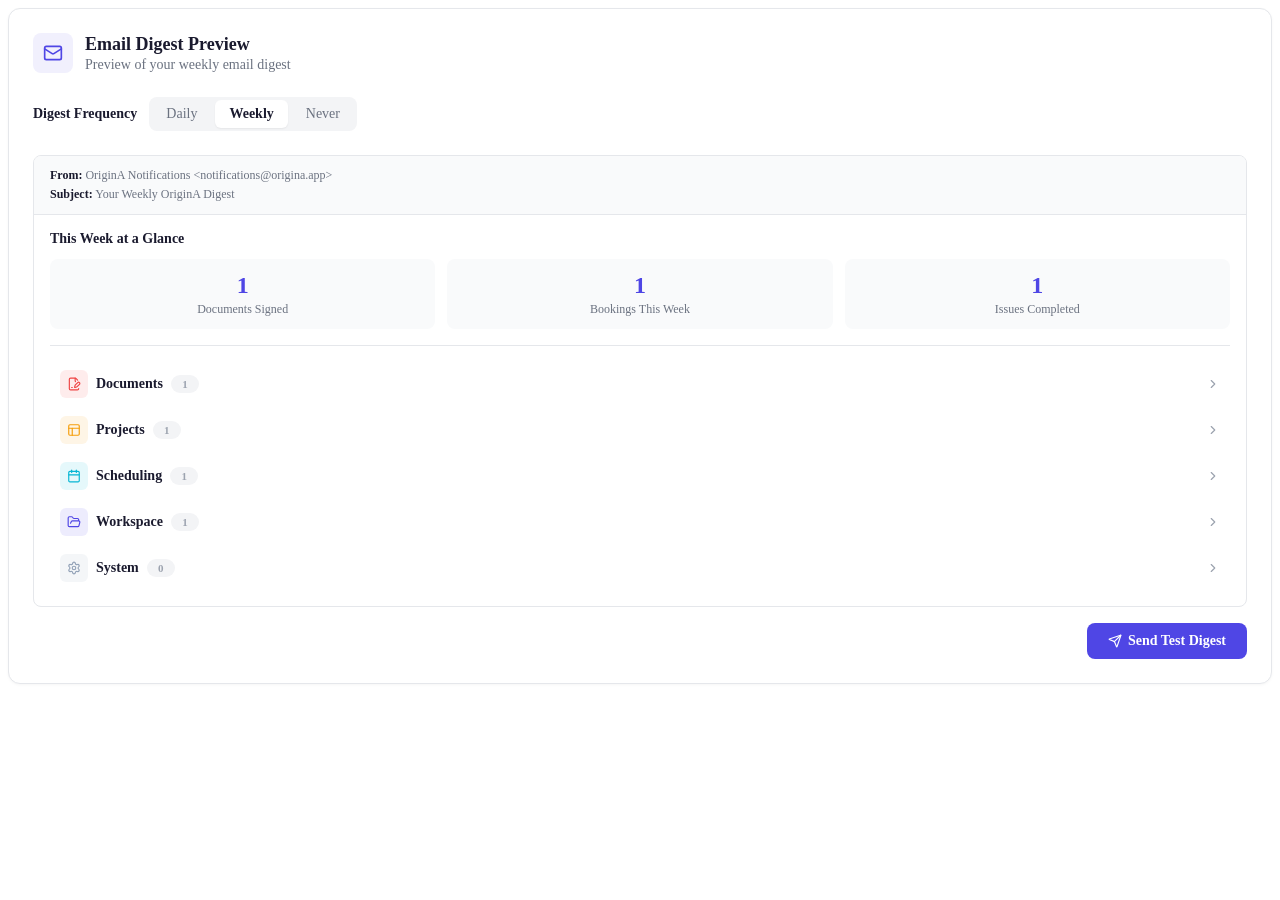
Test: DigestPreview › toggles category expansion on click
Click the button "Documents 1": (129, 383) [50,362,1230,406]
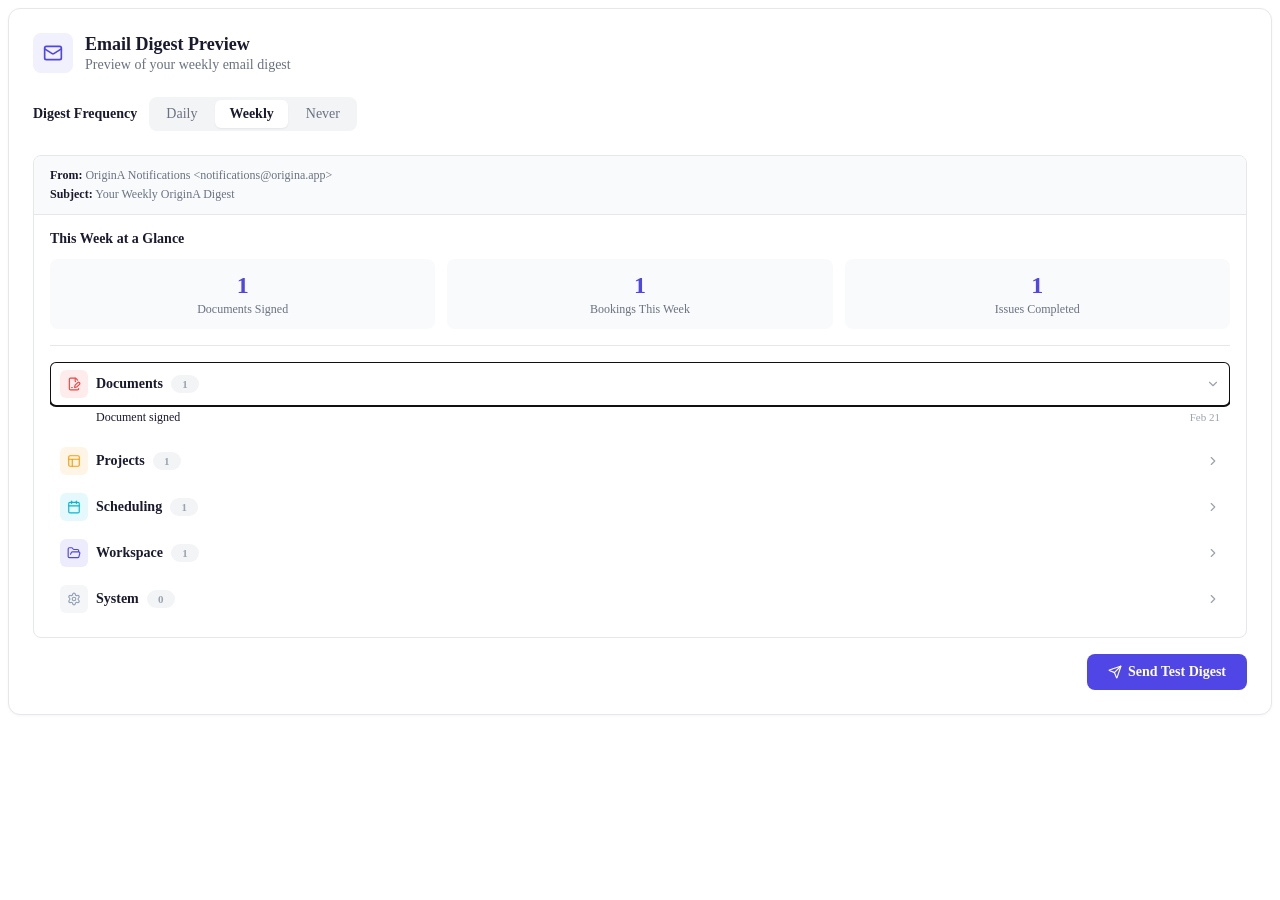
Now the text "Document signed" is shown, box [96,410,180,425]
